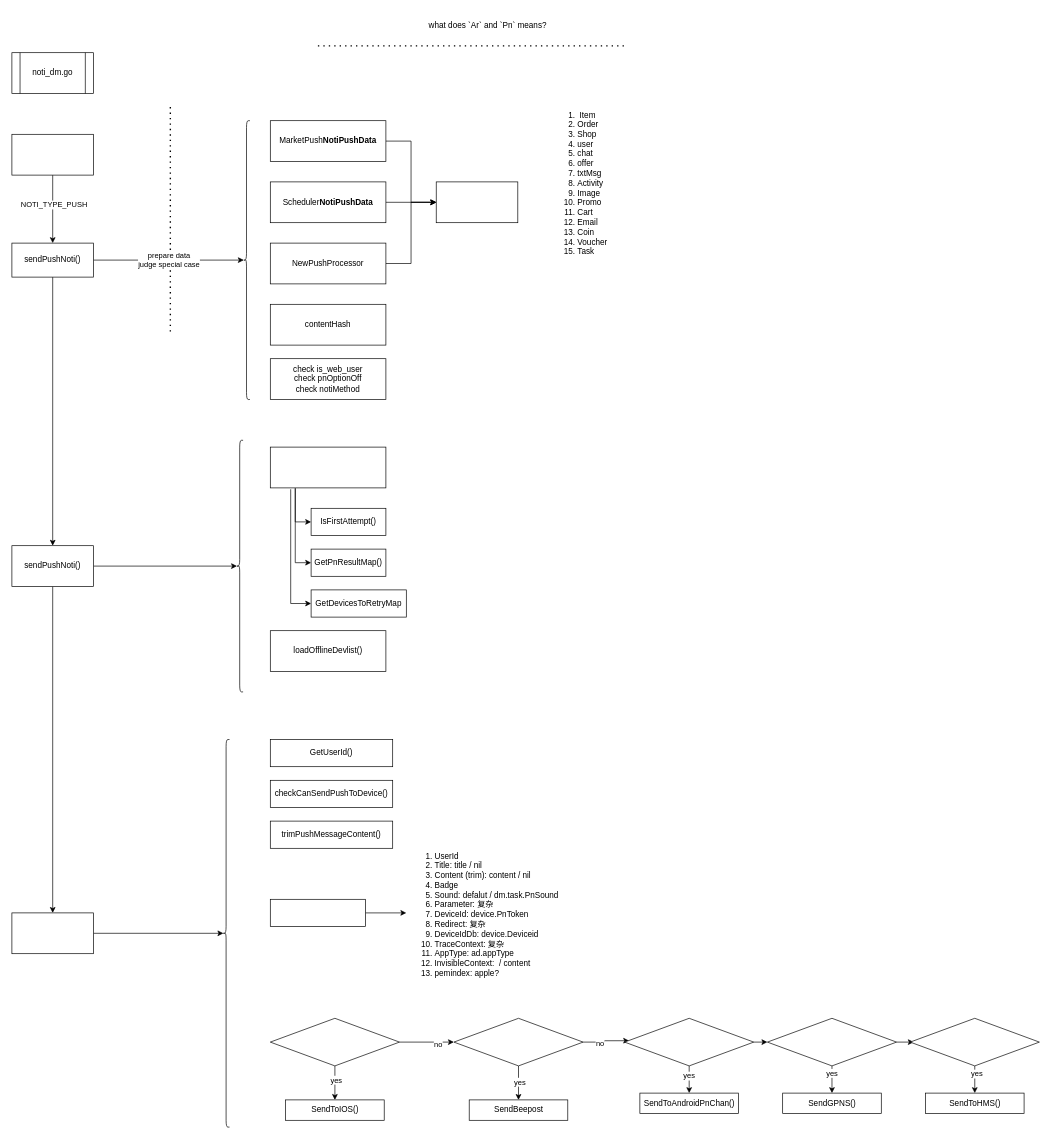
The diagram is 1051 pixels wide and 1139 high, and some of its shapes have lost their labels. The box of each missing label's shape, as (x1, y1, x2, y2) in pixels:
"android"?: (453, 1018, 583, 1066)
"android_gcm"?: (624, 1018, 754, 1066)
"android_gpns"?: (767, 1018, 897, 1066)
"android_hms"?: (910, 1018, 1039, 1066)
cmd.Notification: (436, 181, 518, 223)
executeSend(): (11, 134, 94, 175)
GetLastExecResult: (270, 446, 386, 488)
PushMessage: (270, 899, 366, 927)
sendPushToDevice(): (11, 912, 94, 954)
strings.HasPrefix(device.GetMachineCode(), "apple"): (270, 1018, 400, 1066)
